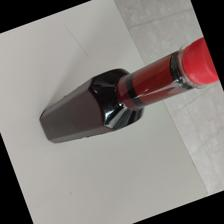Namngu: (36, 36, 222, 145)
